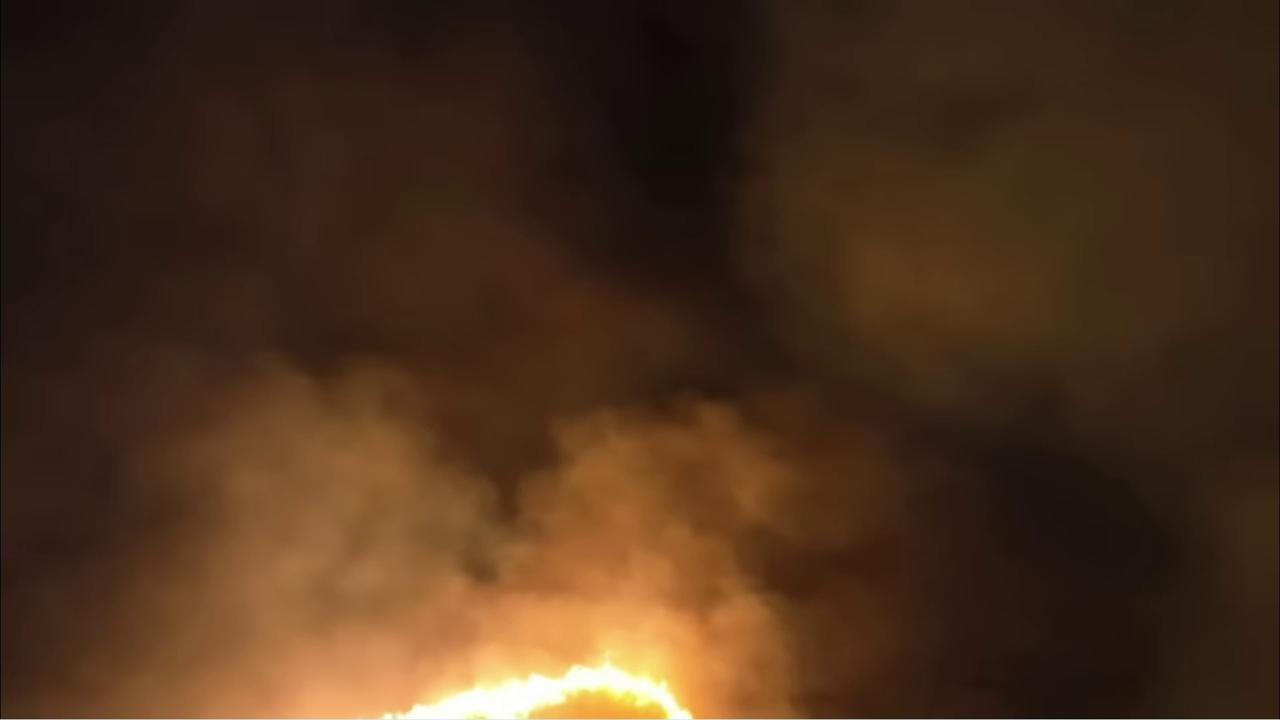fire: (376, 647, 701, 720)
smoke: (0, 0, 1280, 720)
